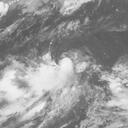cyclone: (33, 57, 73, 95)
